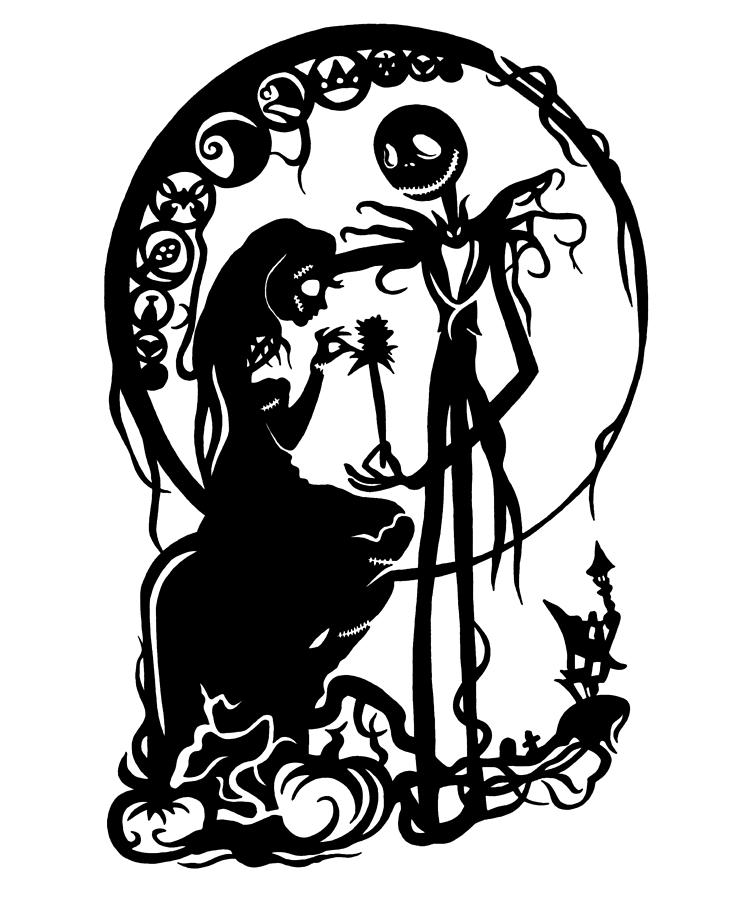Jack Skellington: (331, 94, 589, 848)
